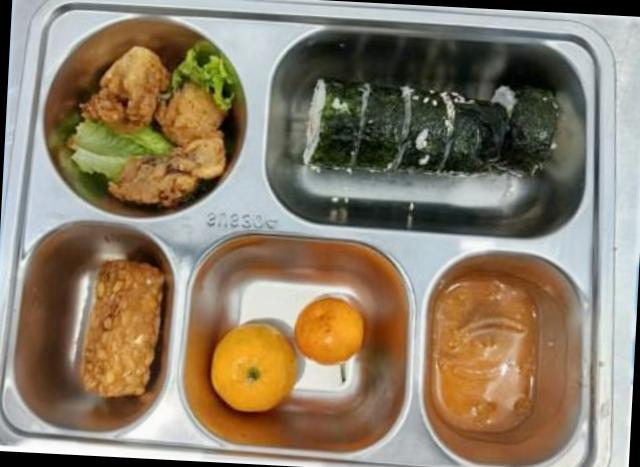ayam: (65, 46, 232, 208)
buah: (79, 260, 164, 398), (211, 323, 296, 412)
nasi: (301, 79, 559, 176), (246, 344, 272, 384)
sayur: (72, 120, 172, 180)
